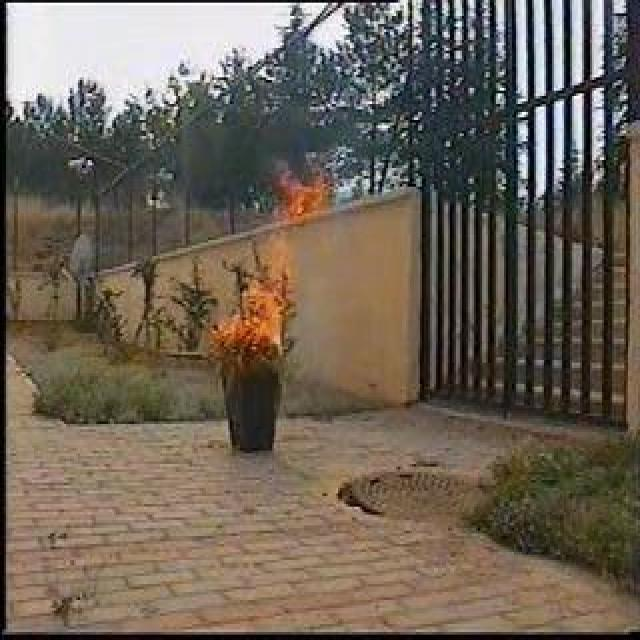fire: (211, 163, 330, 358)
